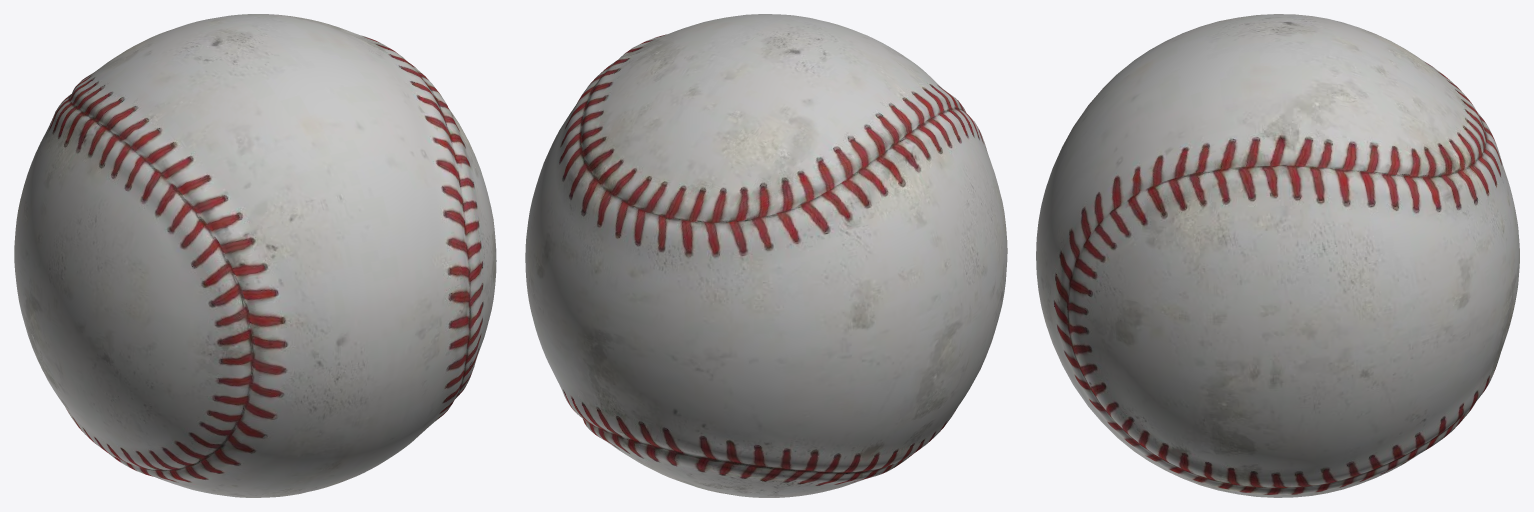
Rendered from baseball.glb.
3 renders of one model, left to right at view 1: azimuth 30°, elevation 25°; view 2: azimuth 150°, elevation 25°; view 3: azimuth 270°, elevation 25°, orthographic.
Parts seen in each view (by area): view 1: baseball_01; view 2: baseball_01; view 3: baseball_01.
Part boxes in pixels (bbox=[...]): baseball_01: bbox=[14, 14, 496, 497]; baseball_01: bbox=[525, 14, 1007, 497]; baseball_01: bbox=[1036, 14, 1519, 497].
Bounding box in the file's own units: 0.0735 × 0.0753 × 0.0752.
1 material, 1 textured.
